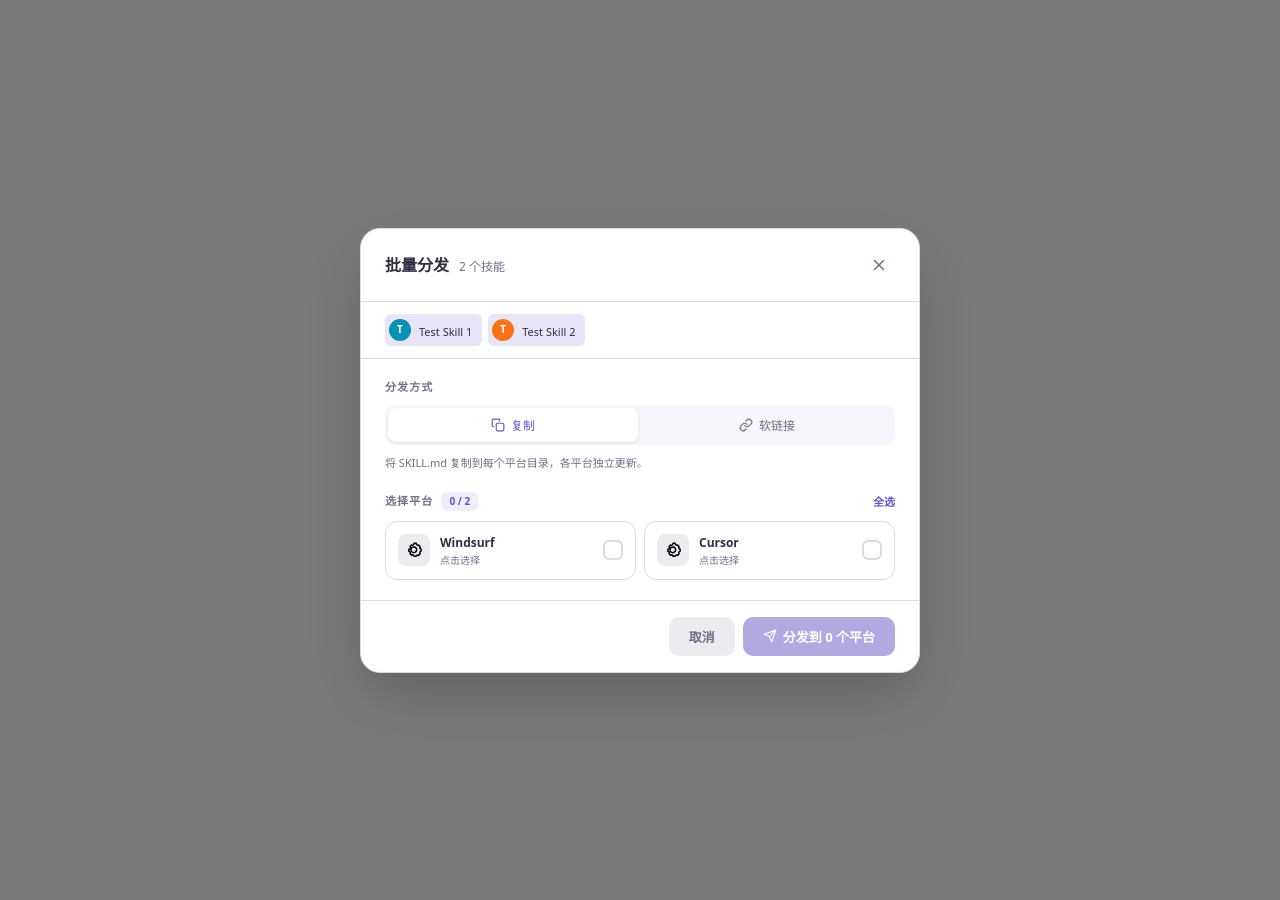
Test: BatchSyncModal › toggle platform selection
Click the button with class "deploy-platform-card" showing "Windsurf 点击选择": click(510, 550) x1=385 y1=520 x2=636 y2=580
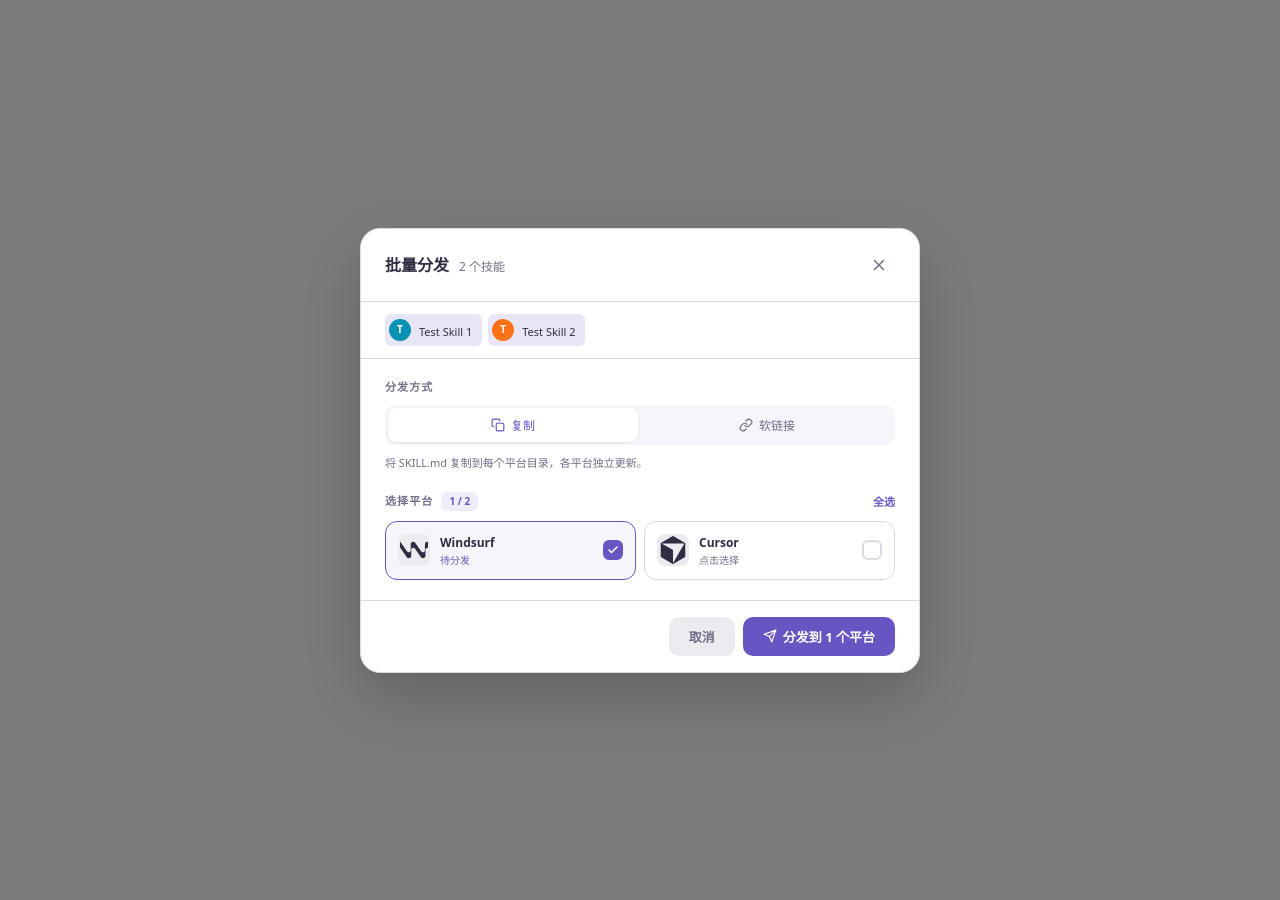
Now the text "1 / 2" is shown, box x1=441 y1=492 x2=478 y2=510
